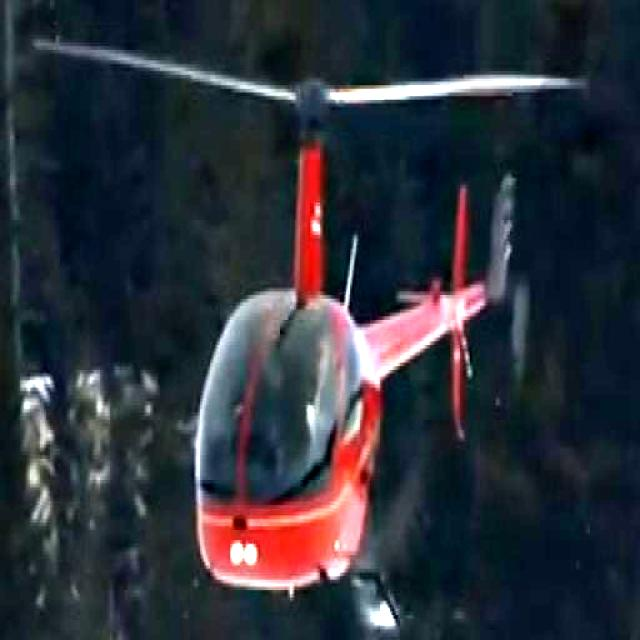drone: (65, 14, 571, 602)
